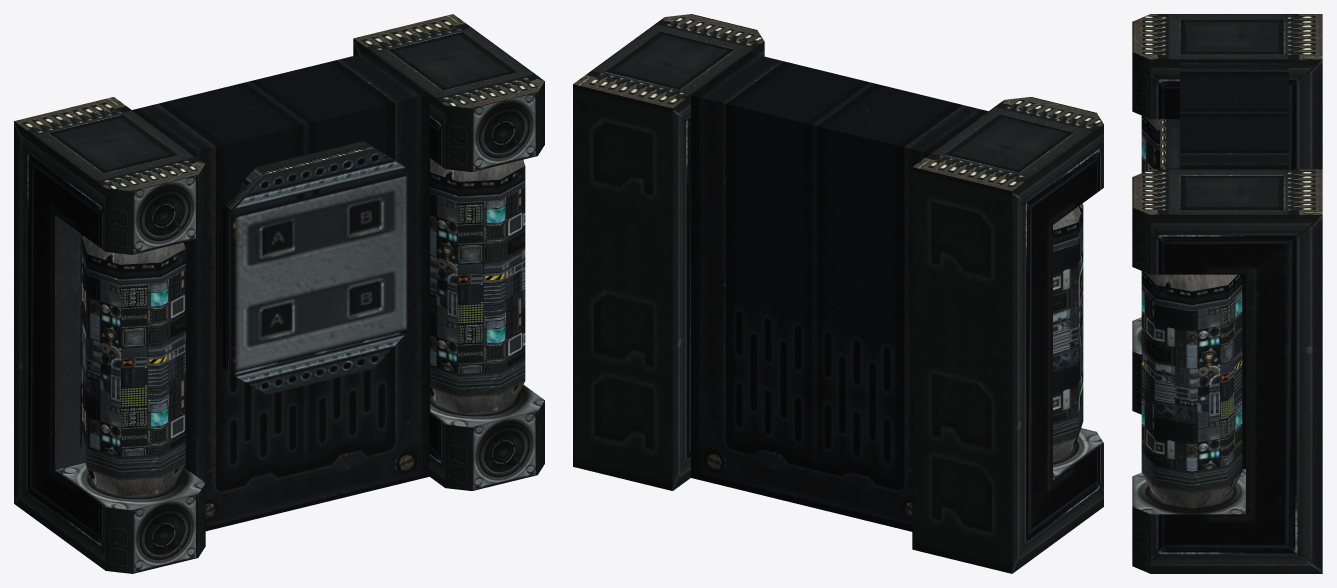
File: Battery_medium_04.FBX
3 renders of one model, left to right at view 1: azimuth 30°, elevation 25°; view 2: azimuth 150°, elevation 25°; view 3: azimuth 270°, elevation 25°, orthographic. The views are drawn at different scales.
Parts seen in each view (by area): view 1: Battery_medium_04, Liquid; view 2: Battery_medium_04, Liquid; view 3: Battery_medium_04, Liquid.
Boxes of the visible parts, <box> form: Battery_medium_04: <box>14,14,544,573</box>; Liquid: <box>82,187,525,456</box>; Battery_medium_04: <box>573,14,1103,573</box>; Liquid: <box>1053,227,1083,422</box>; Battery_medium_04: <box>1132,14,1322,573</box>; Liquid: <box>1141,135,1242,471</box>.
Size of the model in its own units: 194 by 162 by 77.92.
